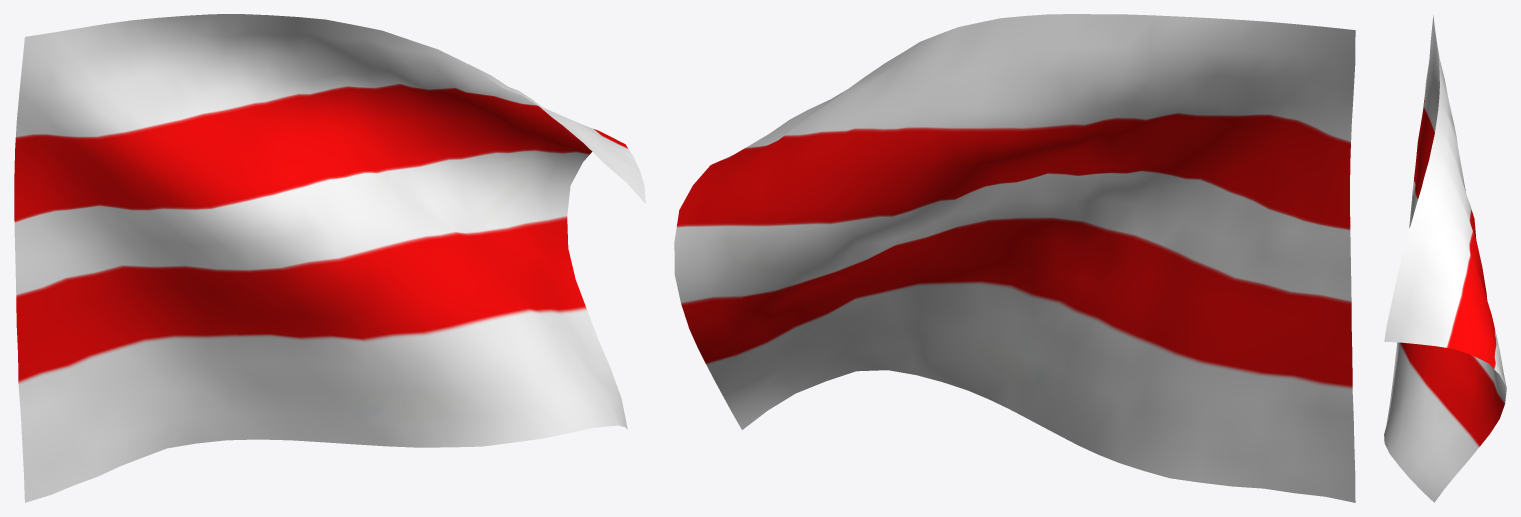
The model's file is scene no pole.glb.
3 renders of one model, left to right at view 1: azimuth 30°, elevation 25°; view 2: azimuth 150°, elevation 25°; view 3: azimuth 270°, elevation 25°, orthographic. The views are drawn at different scales.
Parts seen in each view (by area): view 1: Flag ShapeKeys_2_4; view 2: Flag ShapeKeys_2_4; view 3: Flag ShapeKeys_2_4.
Part boxes in pixels (<box>): Flag ShapeKeys_2_4: <box>14,14,645,502</box>; Flag ShapeKeys_2_4: <box>674,14,1355,502</box>; Flag ShapeKeys_2_4: <box>1384,15,1506,502</box>.
Size of the model in its own units: 2.8 by 2.32 by 0.8164.
1 material, 1 textured.
